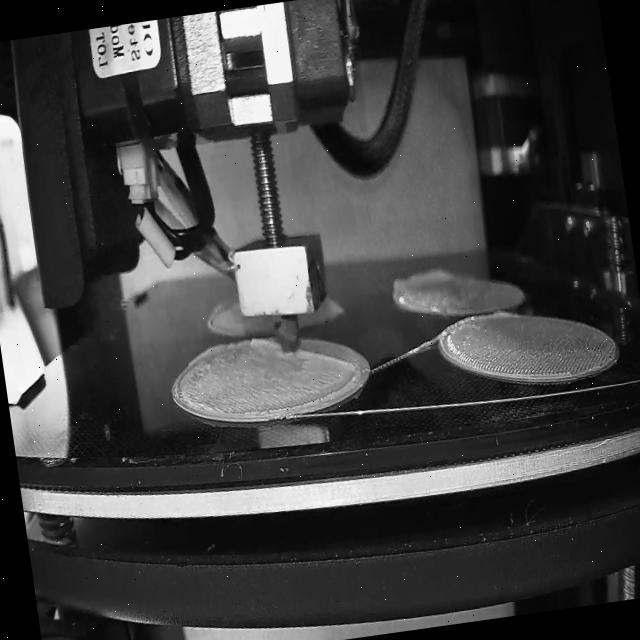over_extrusion: (300, 338, 361, 384), (388, 264, 456, 300), (183, 340, 230, 374), (201, 295, 237, 335), (488, 301, 518, 328), (250, 331, 278, 353)
